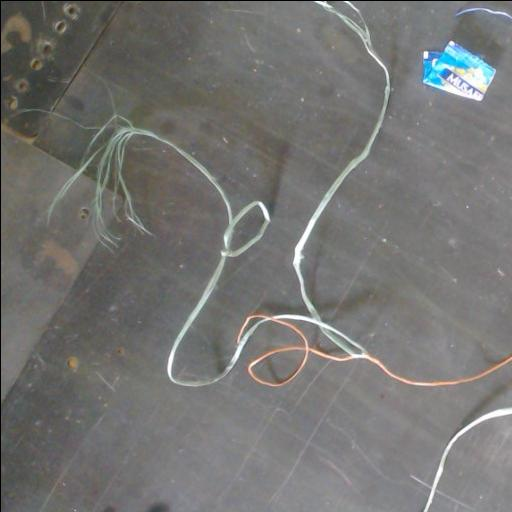conveyor belt: (1, 137, 512, 512), (1, 1, 380, 379), (302, 1, 512, 377)
packet: (430, 417, 512, 512), (423, 40, 495, 100)
thread: (48, 1, 512, 386), (422, 406, 512, 512), (456, 7, 512, 19)
